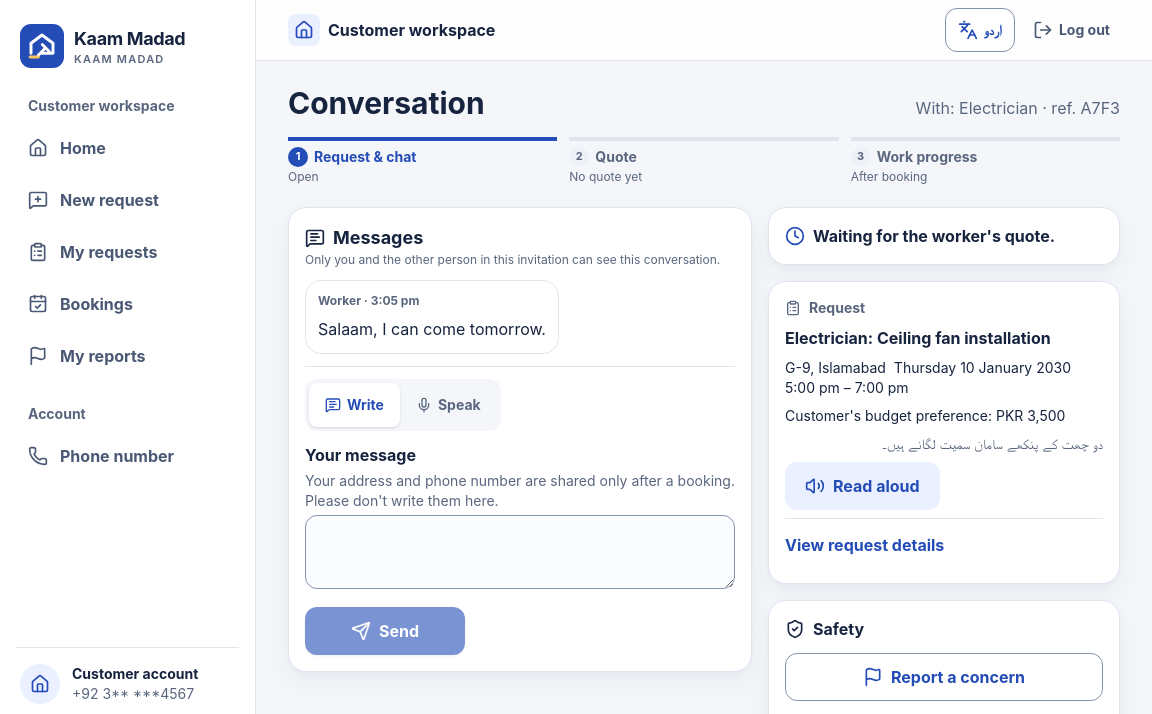
conversation messages › retrying a failed send reuses the same send ID and shows the message once
The image size is (1152, 714).
Expected: the heading "Conversation" is shown, [288,85,485,121]
Expected: the text "With: Electrician · ref. A7F3" is shown, [916,96,1120,120]
Type "Please bring a ladder." into the text box labelled "Your message".
click(520, 552); type("Please bring a ladder.")  # box [305,515,735,589]
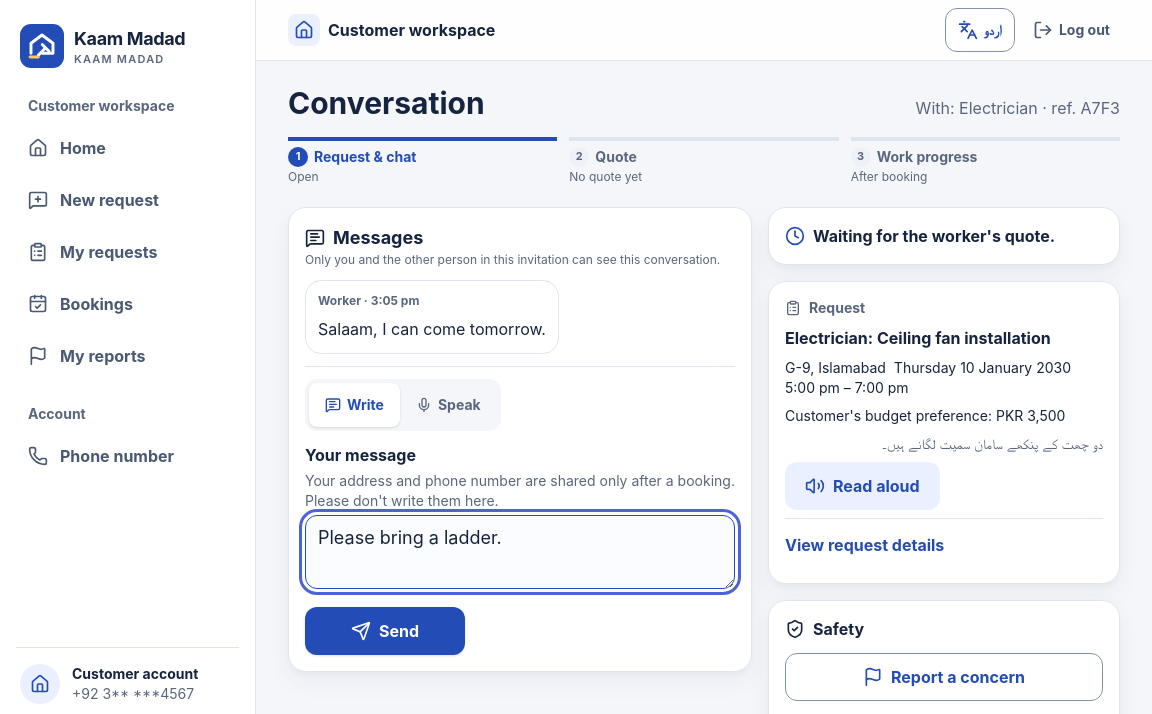
Click the button "Send".
click(385, 631)  # box [305,607,465,655]
(page scrolled)
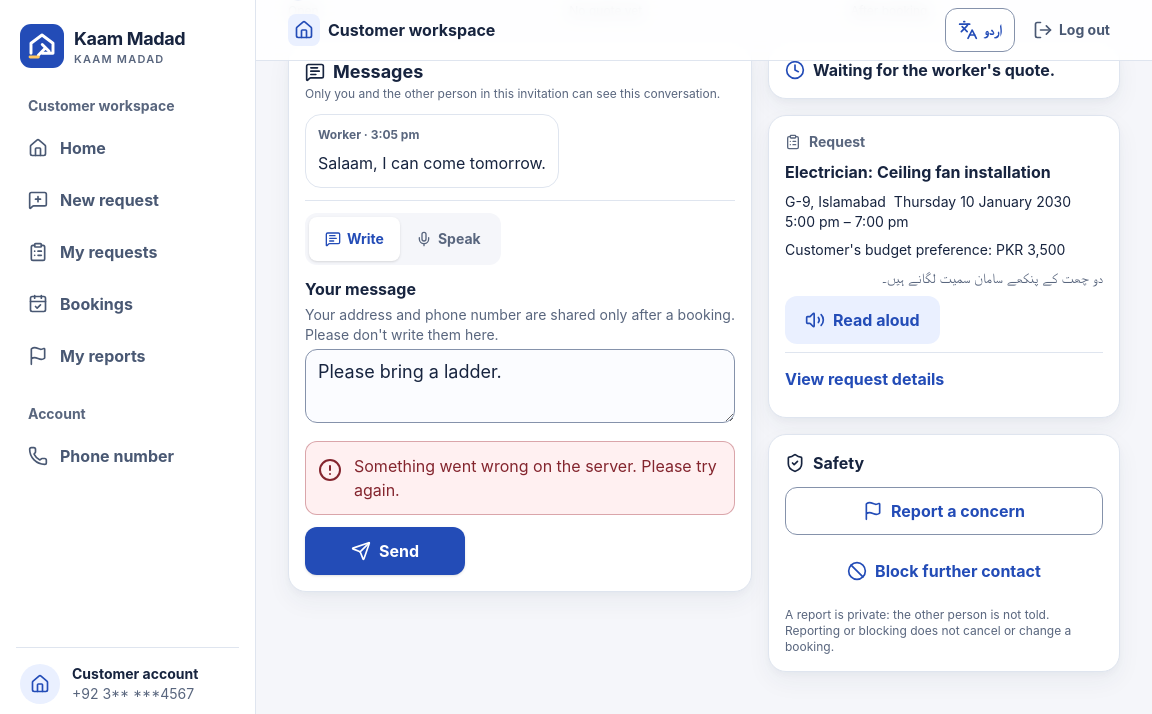
Result: the message "Something went wrong on the server. Please try again." is shown at [305,441,735,515]
Click the button "Send".
click(385, 551)  # box [305,527,465,575]
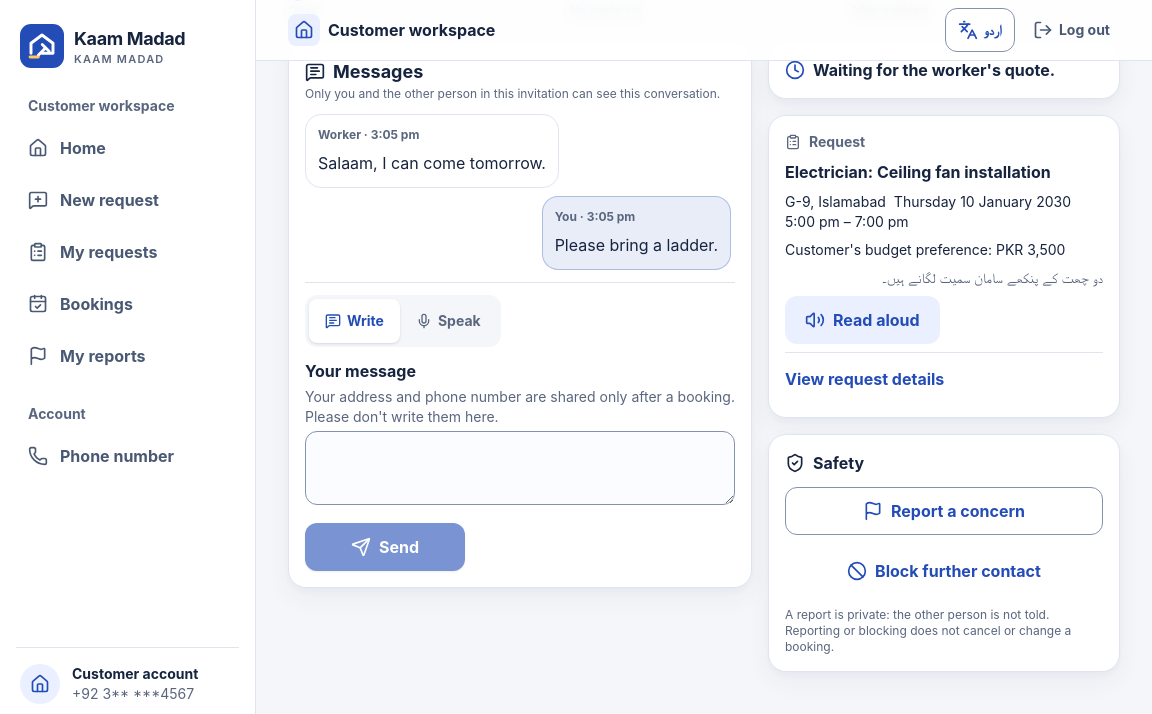
Result: the text "Please bring a ladder." is shown once at [555,233,718,257]
Result: the text box labelled "Your message" is empty at [305,431,735,505]
